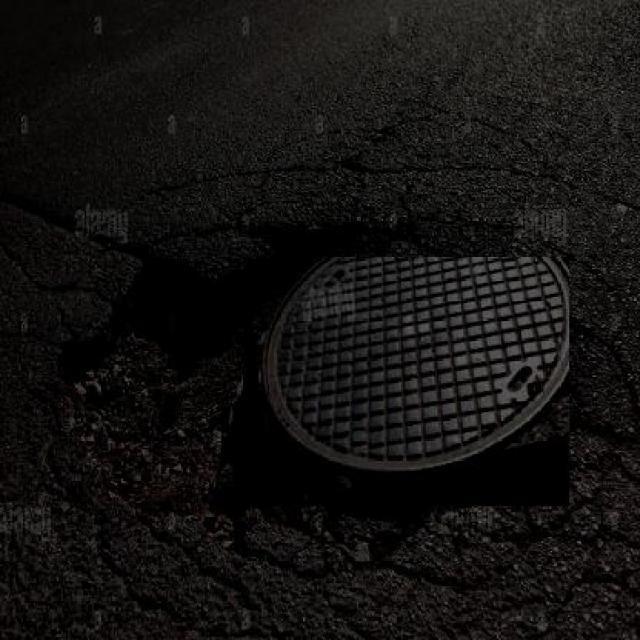Manhole: (243, 257, 569, 506)
